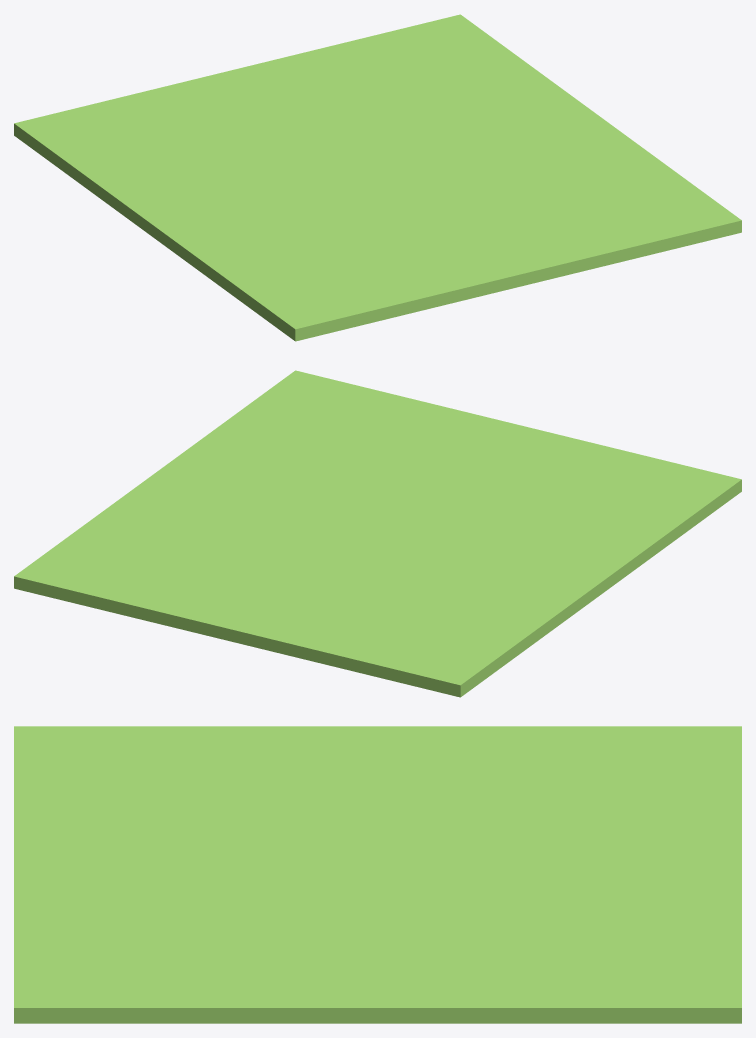
File: suelo.fbx
The picture shows the model from 3 angles, top to bottom: view 1: azimuth 30°, elevation 25°; view 2: azimuth 150°, elevation 25°; view 3: azimuth 270°, elevation 25°; orthographic projection. The views are drawn at different scales.
Parts seen in each view (by area): view 1: Cuarto PISO.001; view 2: Cuarto PISO.001; view 3: Cuarto PISO.001.
Boxes of the visible parts, left/top/right/bottom form: Cuarto PISO.001: left=14, top=14, right=741, bottom=341; Cuarto PISO.001: left=14, top=370, right=741, bottom=697; Cuarto PISO.001: left=14, top=726, right=741, bottom=1023.
Bounding box in the file's own units: 456 × 11.89 × 498.
